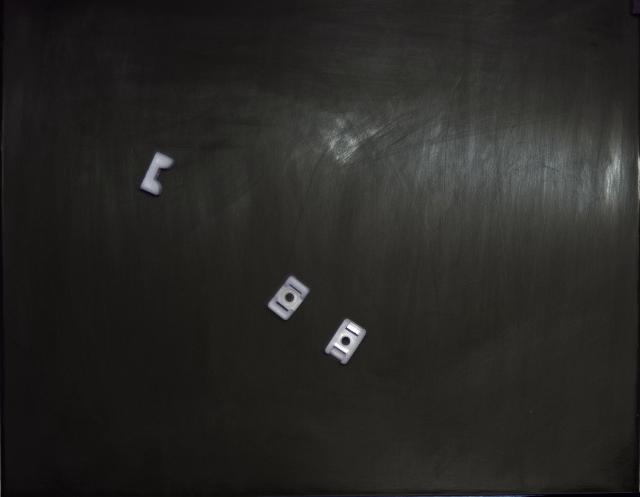first_side: (268, 276, 309, 320)
second_side: (325, 319, 366, 365)
third_side: (140, 152, 175, 195)
